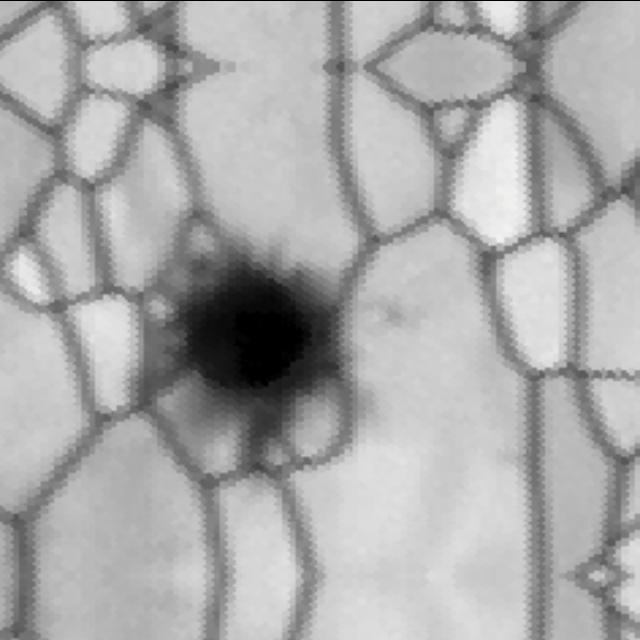good_void: (130, 197, 401, 501)
